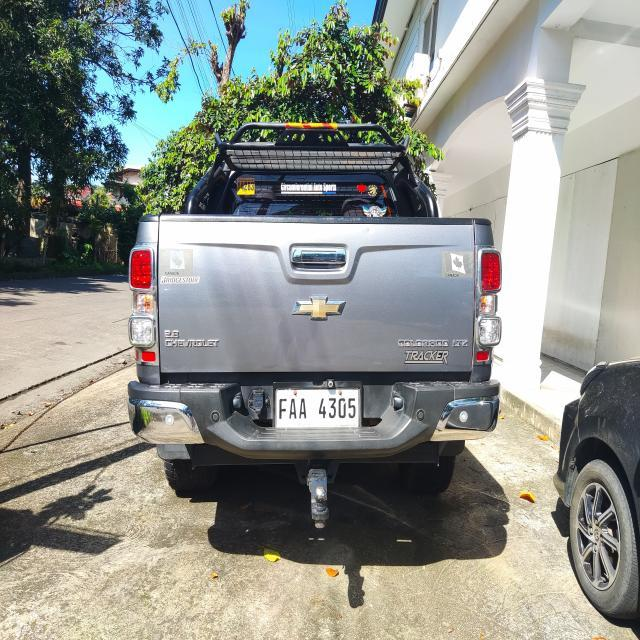LicensePlate: (263, 383, 362, 436)
